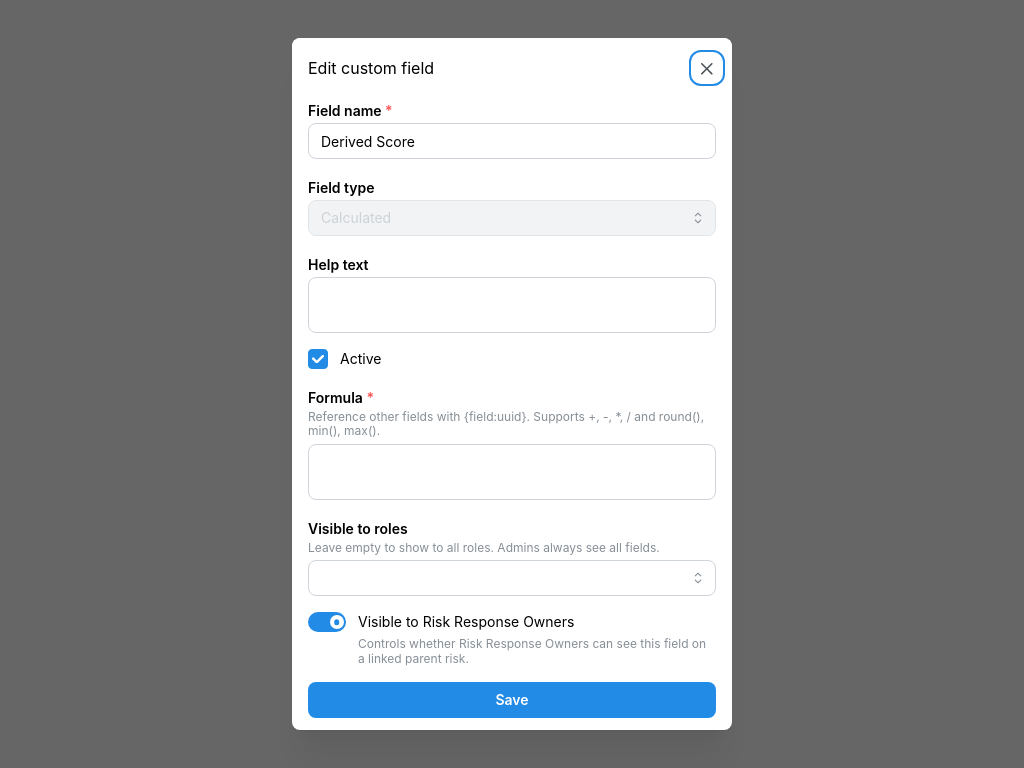
Test case: UI-022: CustomFieldModal formula validation › Save button is disabled after an invalid formula is entered (post-debounce)
Type "1 $ 2" into the text box labelled "Formula *" at (512, 472), box [308,444,716,500]
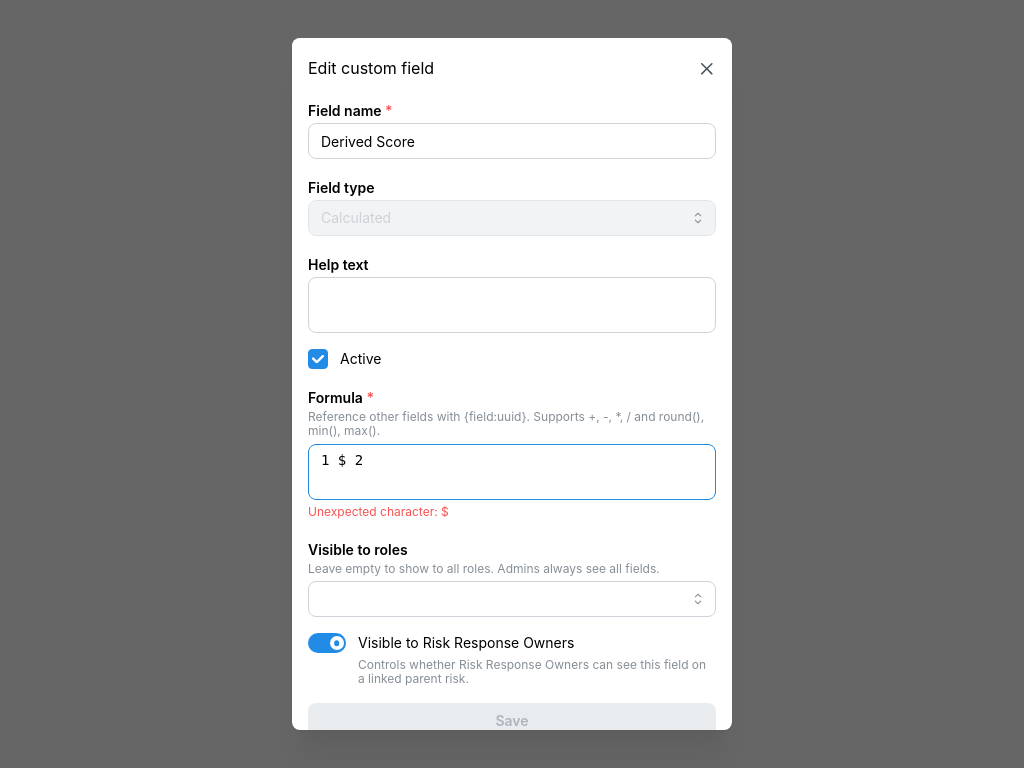
Now the button "Save" is disabled, box [308,703,716,730]
